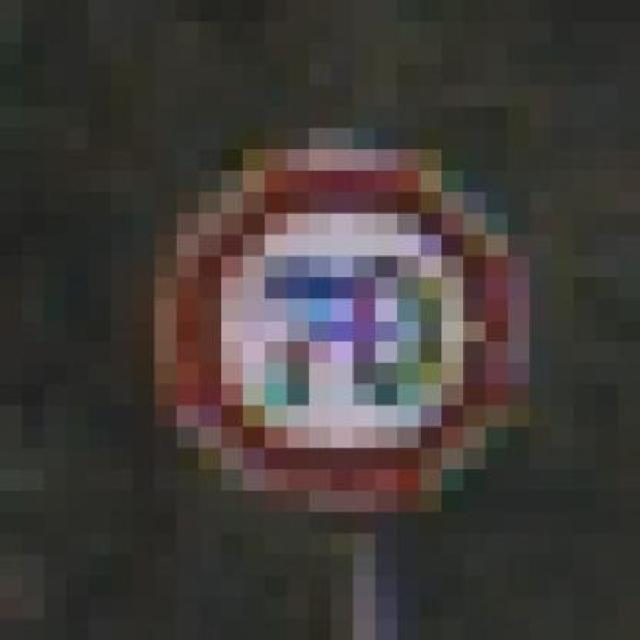forb_speed_over_70: (174, 152, 515, 488)
